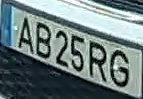2: (54, 28, 70, 69)
5: (69, 32, 85, 72)
A: (16, 15, 35, 55)
B: (35, 19, 52, 59)
G: (109, 49, 130, 88)
R: (87, 38, 107, 83)
